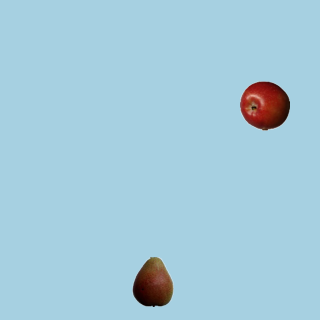Apple Braeburn: (239, 80, 289, 130)
Pear Forelle: (127, 256, 177, 306)
